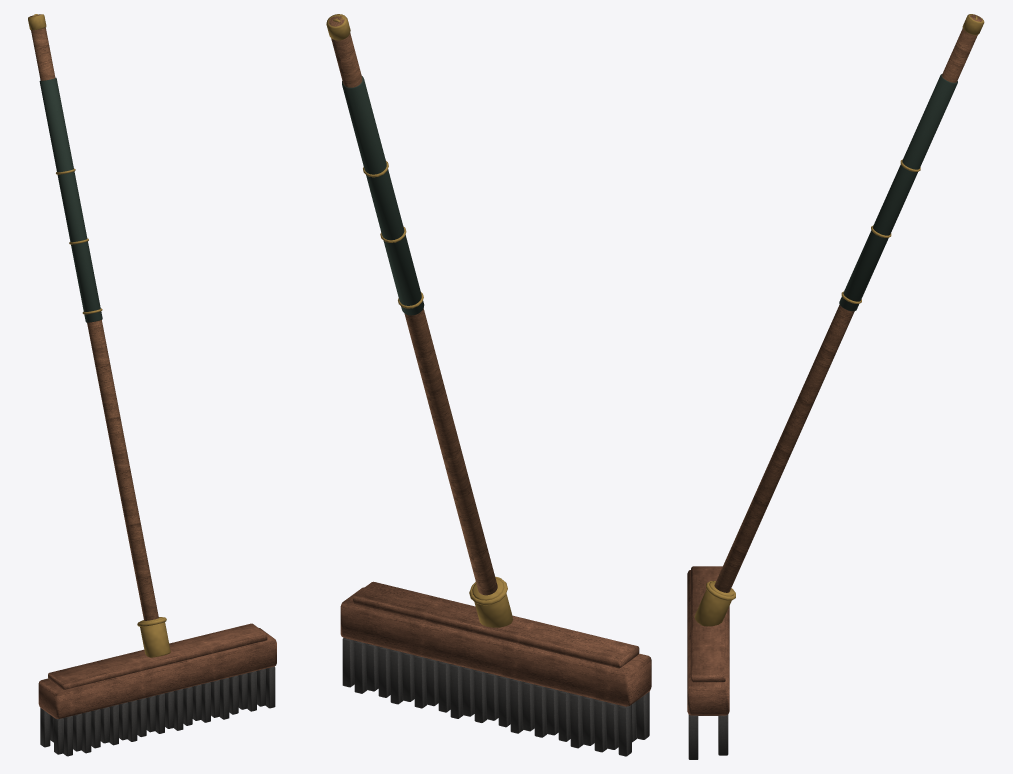
The model's file is asset_074_broom.glb.
3 renders of one model, left to right at view 1: azimuth 30°, elevation 25°; view 2: azimuth 150°, elevation 25°; view 3: azimuth 270°, elevation 25°, orthographic. The views are drawn at different scales.
Parts seen in each view (by area): view 1: MESH_BroomBristles, MESH_BroomBlock, MESH_BroomHandle, MESH_BroomGripWrap, MESH_BroomBlockCap, MESH_BroomFerrule; view 2: MESH_BroomBristles, MESH_BroomBlock, MESH_BroomHandle, MESH_BroomBlockCap, MESH_BroomGripWrap, MESH_BroomFerrule; view 3: MESH_BroomHandle, MESH_BroomGripWrap, MESH_BroomBlockCap, MESH_BroomBlock, MESH_BroomFerrule, MESH_BroomBristles.
Boxes of the visible parts, x1=… form: MESH_BroomBristles: x1=40, y1=666, x2=275, y2=756; MESH_BroomBlock: x1=38, y1=628, x2=276, y2=718; MESH_BroomHandle: x1=30, y1=14, x2=158, y2=620; MESH_BroomGripWrap: x1=39, y1=77, x2=102, y2=322; MESH_BroomBlockCap: x1=48, y1=623, x2=267, y2=689; MESH_BroomFerrule: x1=139, y1=617, x2=170, y2=657; MESH_BroomBristles: x1=342, y1=638, x2=649, y2=756; MESH_BroomBlock: x1=340, y1=587, x2=651, y2=706; MESH_BroomHandle: x1=329, y1=16, x2=497, y2=595; MESH_BroomBlockCap: x1=353, y1=581, x2=639, y2=668; MESH_BroomGripWrap: x1=342, y1=76, x2=424, y2=315; MESH_BroomFerrule: x1=472, y1=577, x2=512, y2=627; MESH_BroomHandle: x1=714, y1=14, x2=982, y2=592; MESH_BroomGripWrap: x1=839, y1=74, x2=957, y2=311; MESH_BroomBlockCap: x1=691, y1=566, x2=725, y2=682; MESH_BroomBlock: x1=687, y1=570, x2=729, y2=715; MESH_BroomFerrule: x1=694, y1=581, x2=734, y2=626; MESH_BroomBristles: x1=688, y1=715, x2=728, y2=759.
Size of the model in its own units: 0.52 by 1.4 by 0.5812.
Materials: 6 (5 with a texture image).
